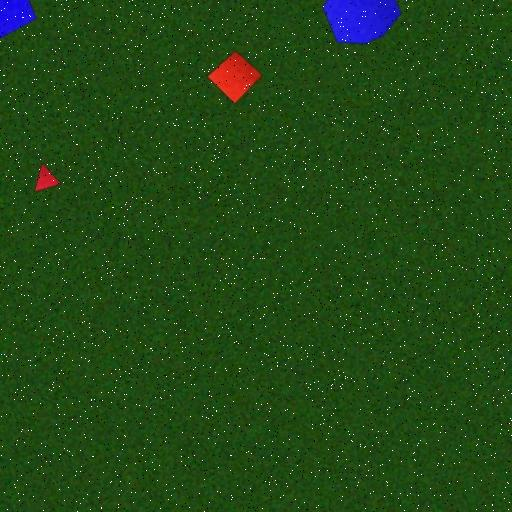RED_SQUARE: (206, 50, 264, 105)
